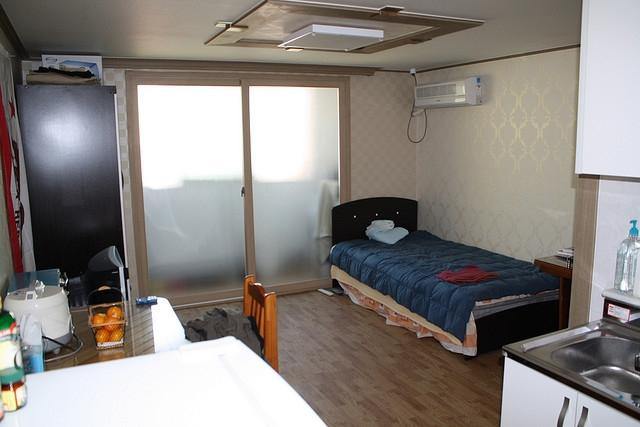orange: (104, 315, 122, 332), (95, 328, 110, 344), (109, 328, 124, 342), (106, 306, 122, 318), (93, 314, 105, 329), (102, 314, 108, 320)
